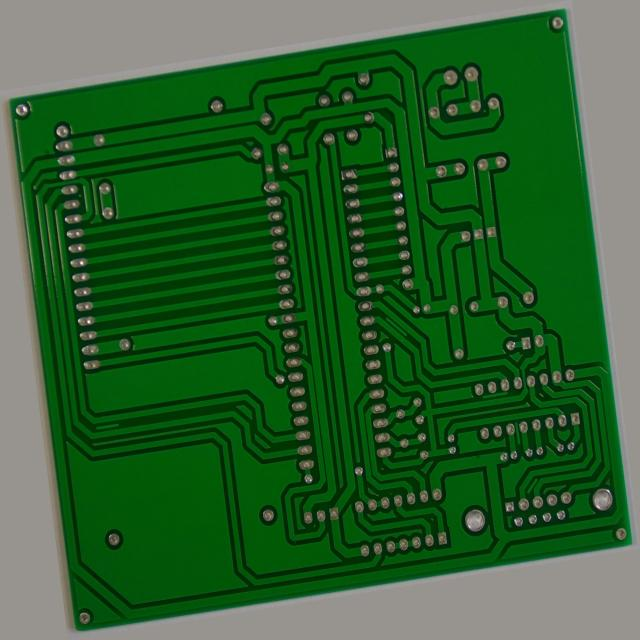spurious_copper: (388, 326, 415, 357), (519, 536, 543, 559), (484, 431, 519, 444), (516, 469, 529, 500), (57, 399, 87, 408)
